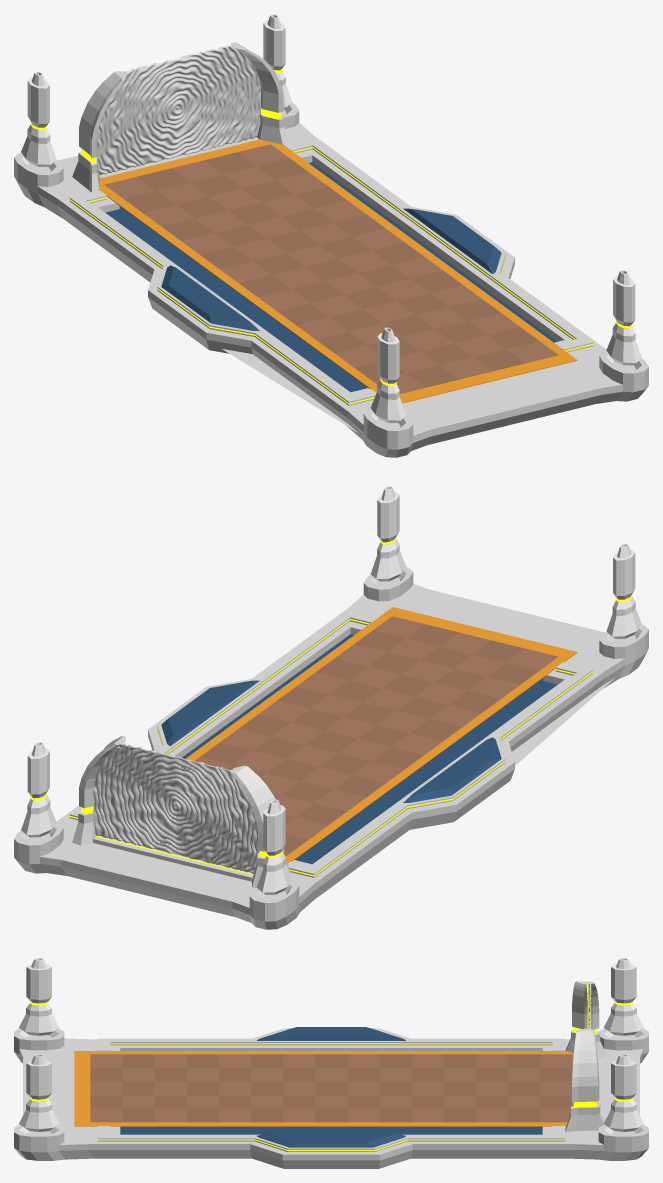
The model's file is 9.16 space environment5lines - Kopya.fbx.
3 views of the same model, one above another, from view 1: azimuth 30°, elevation 25°; view 2: azimuth 150°, elevation 25°; view 3: azimuth 270°, elevation 25° (orthographic). The views are drawn at different scales.
Parts seen in each view (by area): view 1: Plane, Plane.001, Plane.004, Plane.008, Plane.005, Plane.007, Plane.009, Plane.003; view 2: Plane.001, Plane, Plane.004, Plane.005, Plane.008, Plane.007, Plane.009, Plane.003; view 3: Plane, Plane.001, Plane.005, Plane.008, Plane.007, Plane.009, Plane.003.
Boxes of the visible parts, bbox=[...] form: Plane: bbox=[104, 144, 558, 393]; Plane.001: bbox=[14, 42, 648, 457]; Plane.004: bbox=[97, 44, 260, 175]; Plane.008: bbox=[99, 138, 577, 403]; Plane.005: bbox=[21, 14, 641, 422]; Plane.007: bbox=[105, 162, 557, 392]; Plane.009: bbox=[161, 208, 501, 330]; Plane.003: bbox=[69, 146, 593, 404]; Plane.001: bbox=[14, 567, 648, 929]; Plane: bbox=[194, 616, 558, 856]; Plane.004: bbox=[93, 743, 259, 874]; Plane.005: bbox=[21, 486, 641, 894]; Plane.008: bbox=[185, 607, 577, 863]; Plane.007: bbox=[182, 634, 557, 864]; Plane.009: bbox=[161, 680, 501, 802]; Plane.003: bbox=[69, 618, 593, 876]; Plane: bbox=[90, 1054, 572, 1122]; Plane.001: bbox=[14, 981, 648, 1168]; Plane.005: bbox=[19, 958, 643, 1131]; Plane.008: bbox=[74, 1051, 573, 1126]; Plane.007: bbox=[120, 1126, 542, 1134]; Plane.009: bbox=[256, 1027, 406, 1147]; Plane.003: bbox=[97, 1043, 565, 1150].
Bounding box in the file's own units: 1854 × 698 × 3951.
